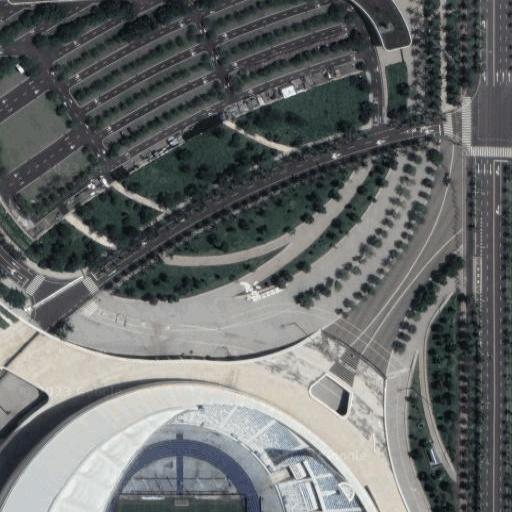building: (0, 370, 360, 512)
